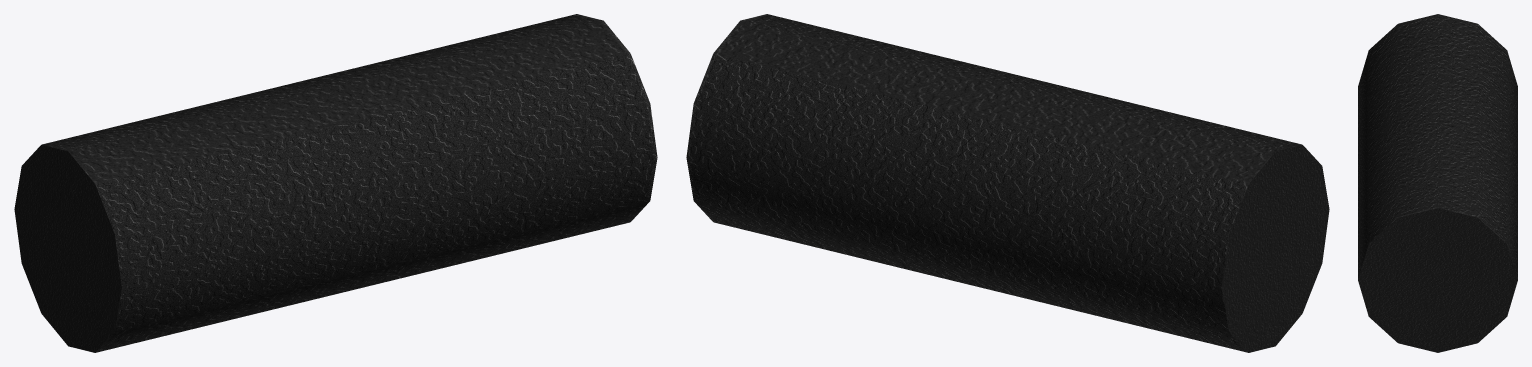
Rendered from ra_cilinder00.obj.
3 renders of one model, left to right at view 1: azimuth 30°, elevation 25°; view 2: azimuth 150°, elevation 25°; view 3: azimuth 270°, elevation 25°, orthographic. The views are drawn at different scales.
Visible parts, largest first — view 1: cilinder0; view 2: cilinder0; view 3: cilinder0.
Part boxes in pixels (box(x1,y1,x2,y2)): cilinder0: box(14, 14, 657, 352); cilinder0: box(686, 14, 1329, 352); cilinder0: box(1358, 14, 1517, 352).
Bounding box in the file's own units: 25.8 × 8.98 × 8.98.
Materials: 1 (1 with a texture image).
